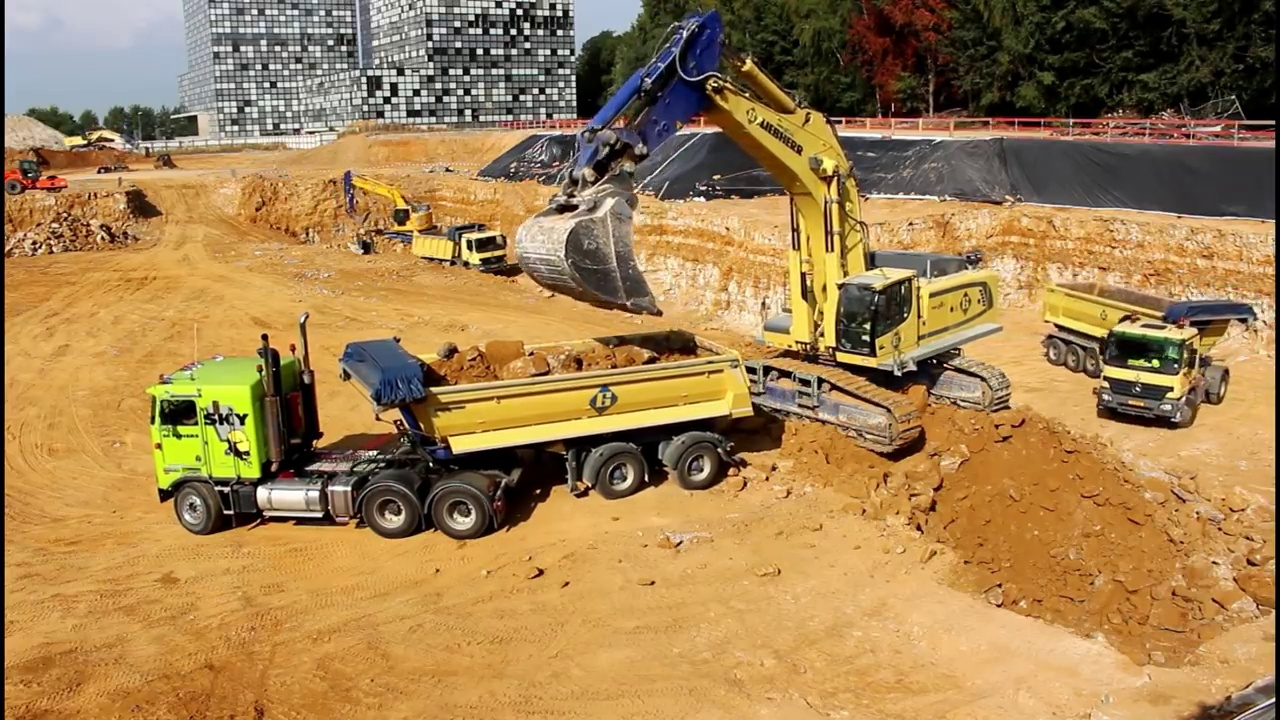compactor: (2, 159, 68, 199)
excavator: (512, 7, 1018, 459), (333, 169, 446, 257), (60, 123, 146, 161)
truck: (140, 307, 763, 545), (1039, 275, 1261, 430), (412, 219, 515, 286)
